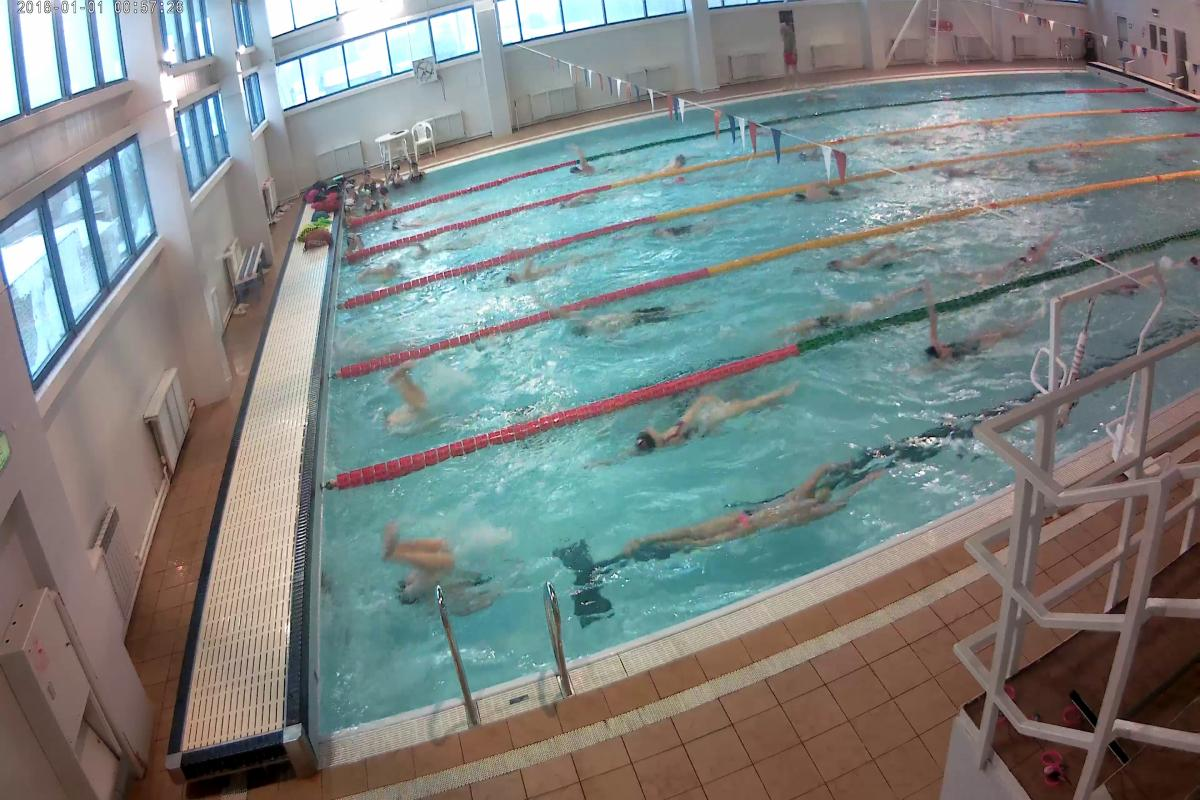swimmer: (621, 474, 844, 566), (628, 382, 802, 460), (905, 316, 1036, 365), (572, 298, 686, 347), (795, 290, 899, 331), (817, 237, 904, 283), (499, 256, 566, 296), (786, 180, 856, 214), (648, 218, 709, 255), (549, 157, 608, 179), (659, 147, 698, 171)
